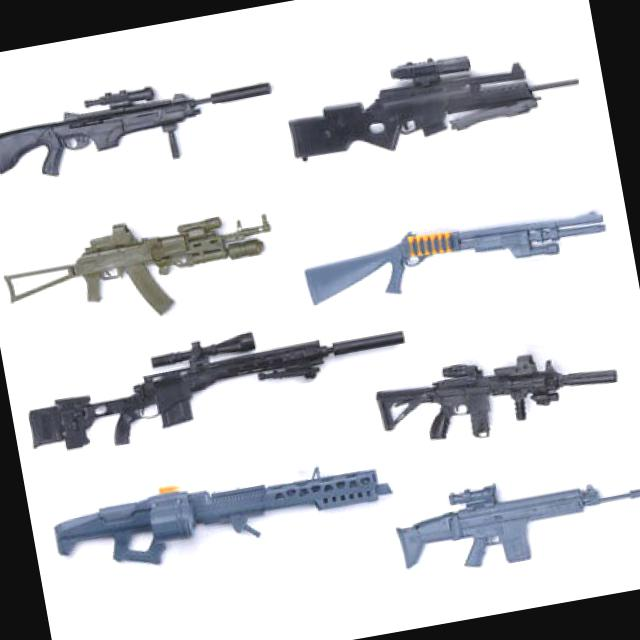long weapon: (18, 303, 424, 462), (272, 6, 592, 178), (48, 446, 393, 592), (0, 48, 286, 211), (294, 182, 626, 312), (0, 190, 290, 335), (370, 325, 632, 447), (375, 460, 639, 577)
